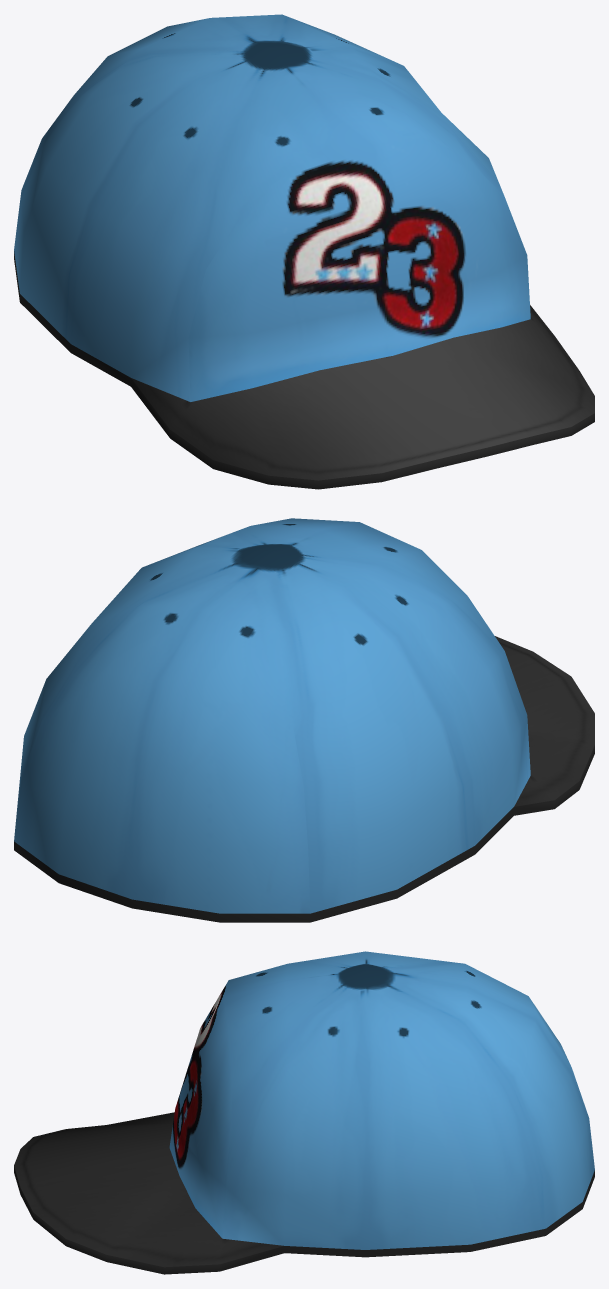
The model's file is boy_cap4.FBX.
3 views of the same model, one above another, from view 1: azimuth 30°, elevation 25°; view 2: azimuth 150°, elevation 25°; view 3: azimuth 270°, elevation 25° (orthographic). The views are drawn at different scales.
Visible parts, largest first — view 1: boy_cap14; view 2: boy_cap14; view 3: boy_cap14.
Boxes of the visible parts, x1,y1,x2,y2 form: boy_cap14: (14,14,594,489); boy_cap14: (14,518,594,922); boy_cap14: (14,951,594,1274).
Size of the model in its own units: 46.25 by 33.82 by 70.65.
